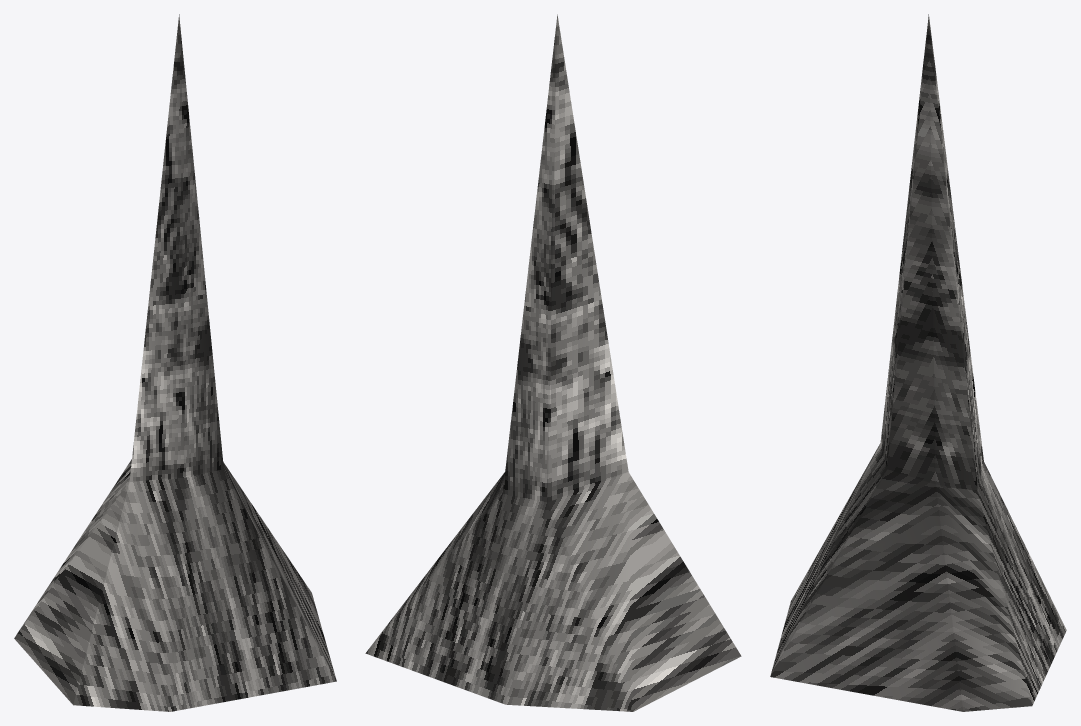
The model's file is uvmd-0086.glb.
The picture shows the model from 3 angles, left to right: view 1: azimuth 30°, elevation 25°; view 2: azimuth 150°, elevation 25°; view 3: azimuth 270°, elevation 25°; orthographic projection.
Visible parts, largest first — view 1: uvmd-0086; view 2: uvmd-0086; view 3: uvmd-0086.
Part boxes in pixels (x1=…): uvmd-0086: x1=14, y1=14, x2=336, y2=711; uvmd-0086: x1=365, y1=14, x2=741, y2=711; uvmd-0086: x1=770, y1=14, x2=1066, y2=711.
Size of the model in its own units: 49 by 100 by 43.
Materials: 1 (1 with a texture image).
